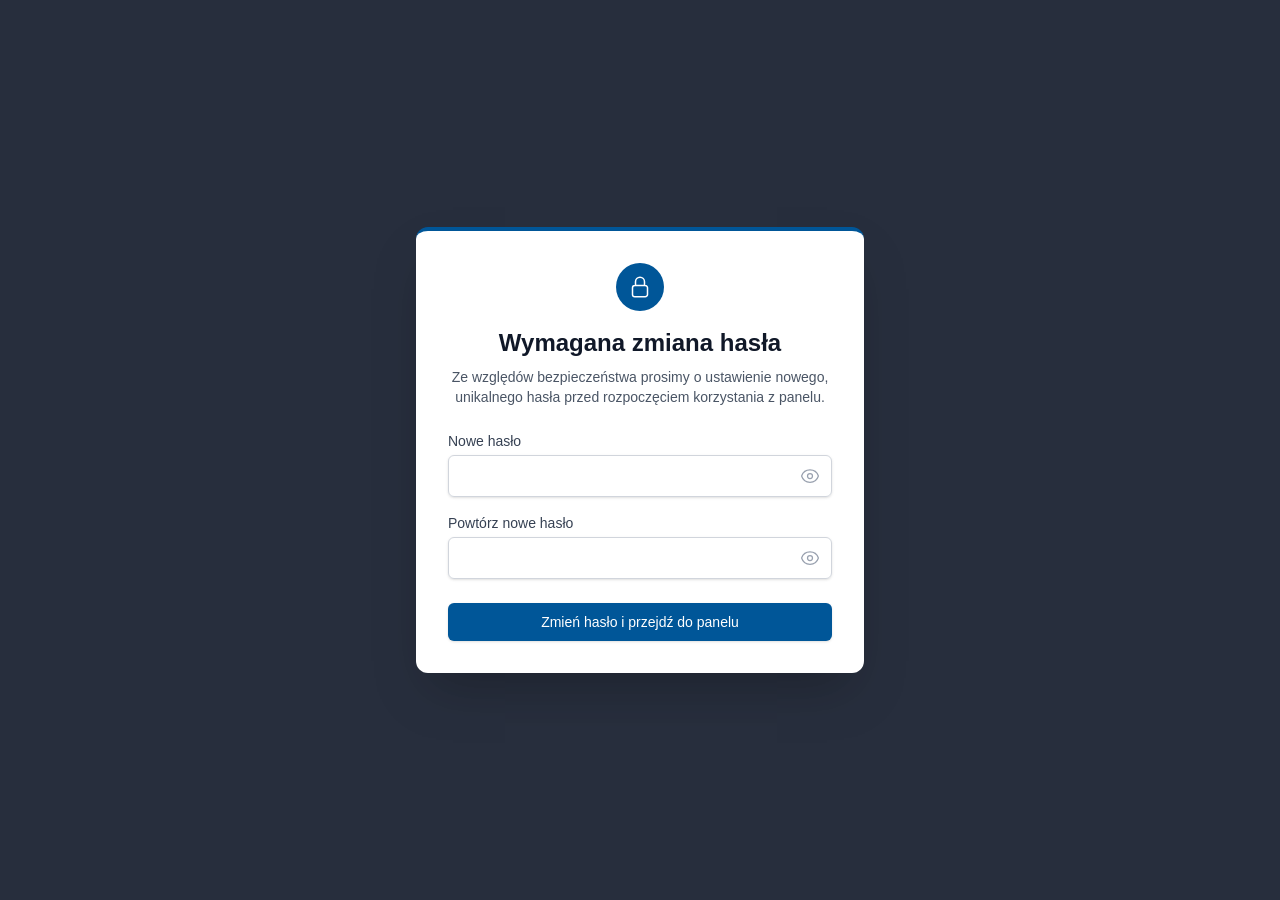
Test: ForceChangePasswordModal › wyświetla błąd gdy hasła się nie zgadzają
Type "NoweHaslo1!" into the 1st password field at (640, 476), box [448, 455, 832, 497]
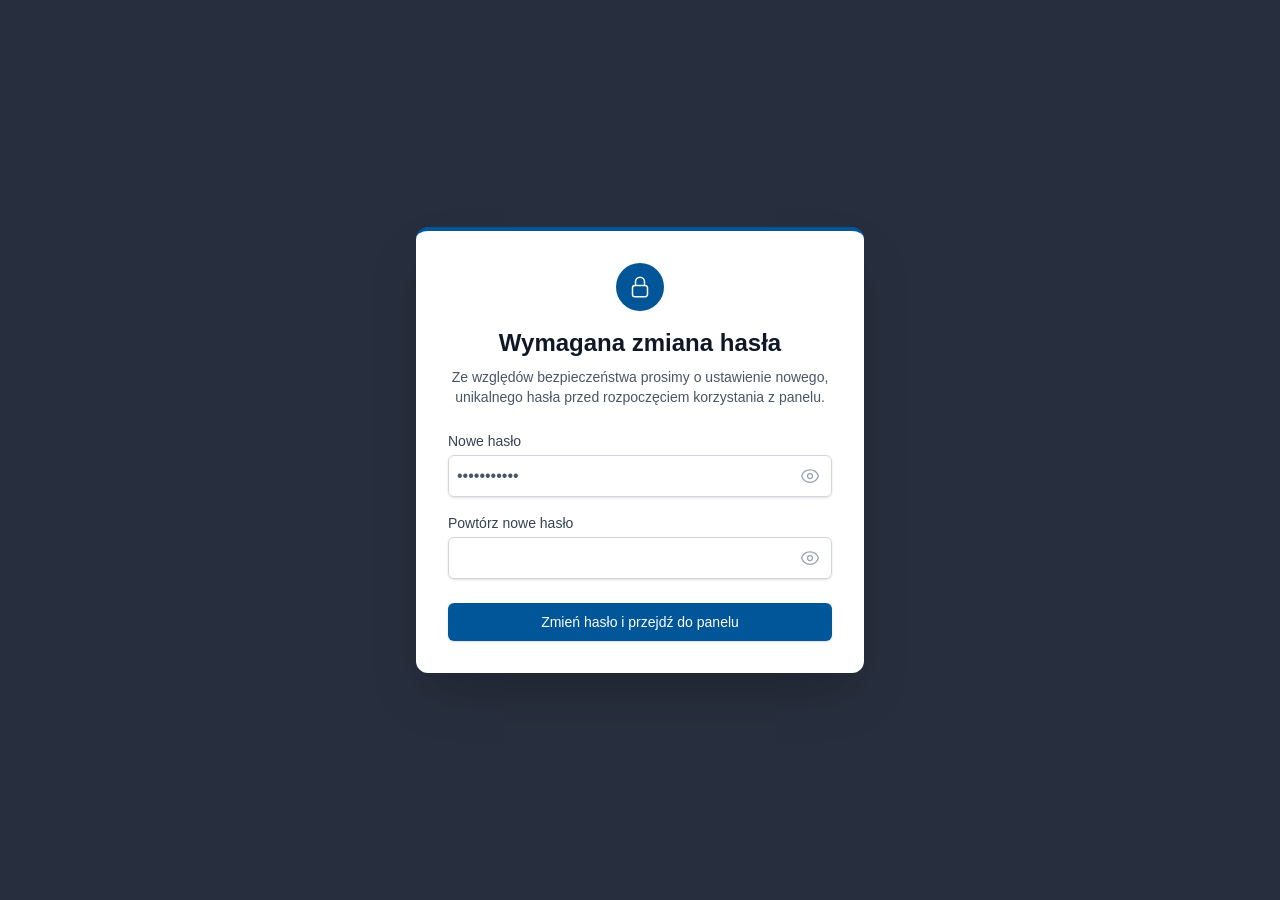
Type "InneHaslo2!" into the password field below "Powtórz nowe hasło" at (640, 558), box [448, 537, 832, 579]
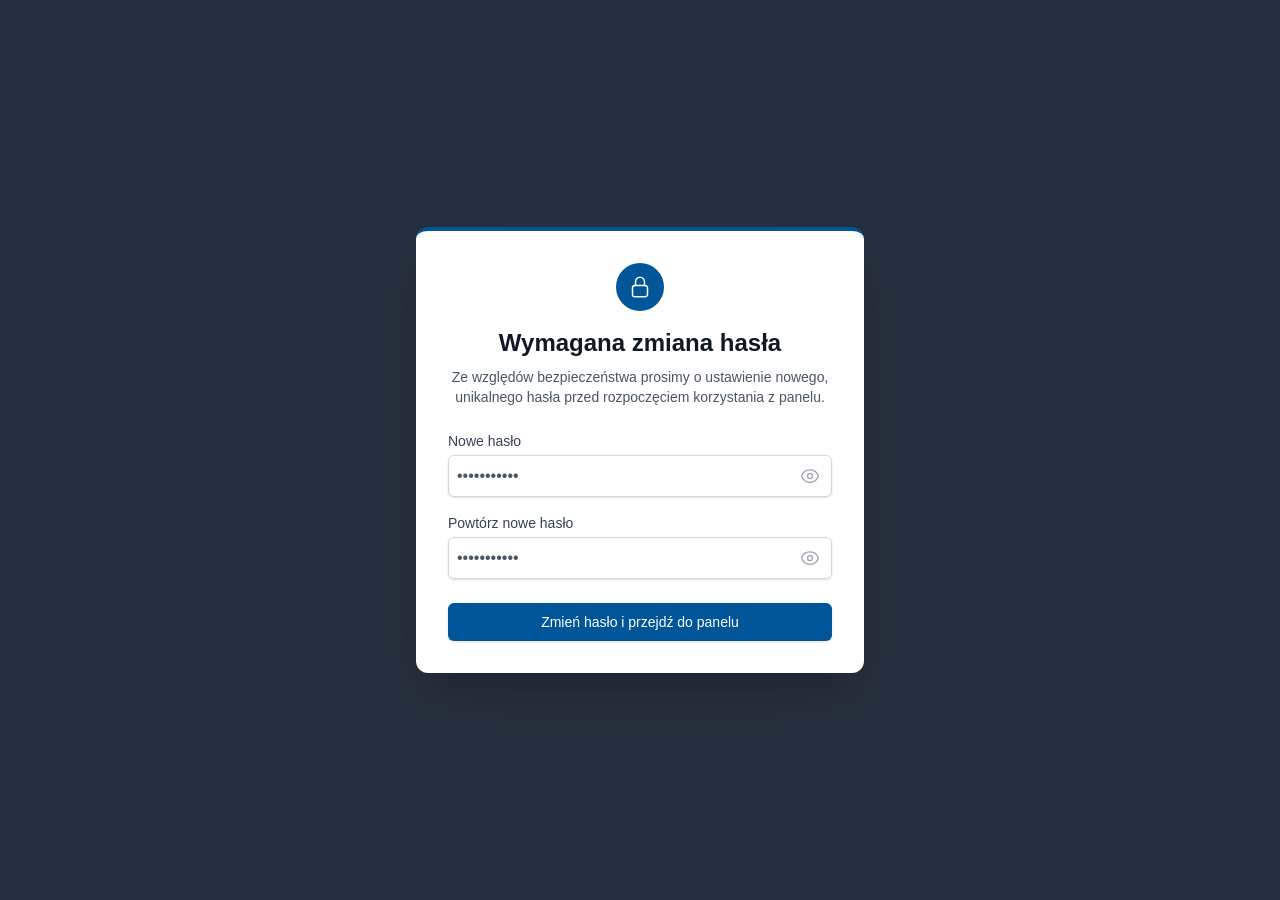
Click the button "Zmień hasło i przejdź do panelu" at (640, 622), box [448, 603, 832, 641]
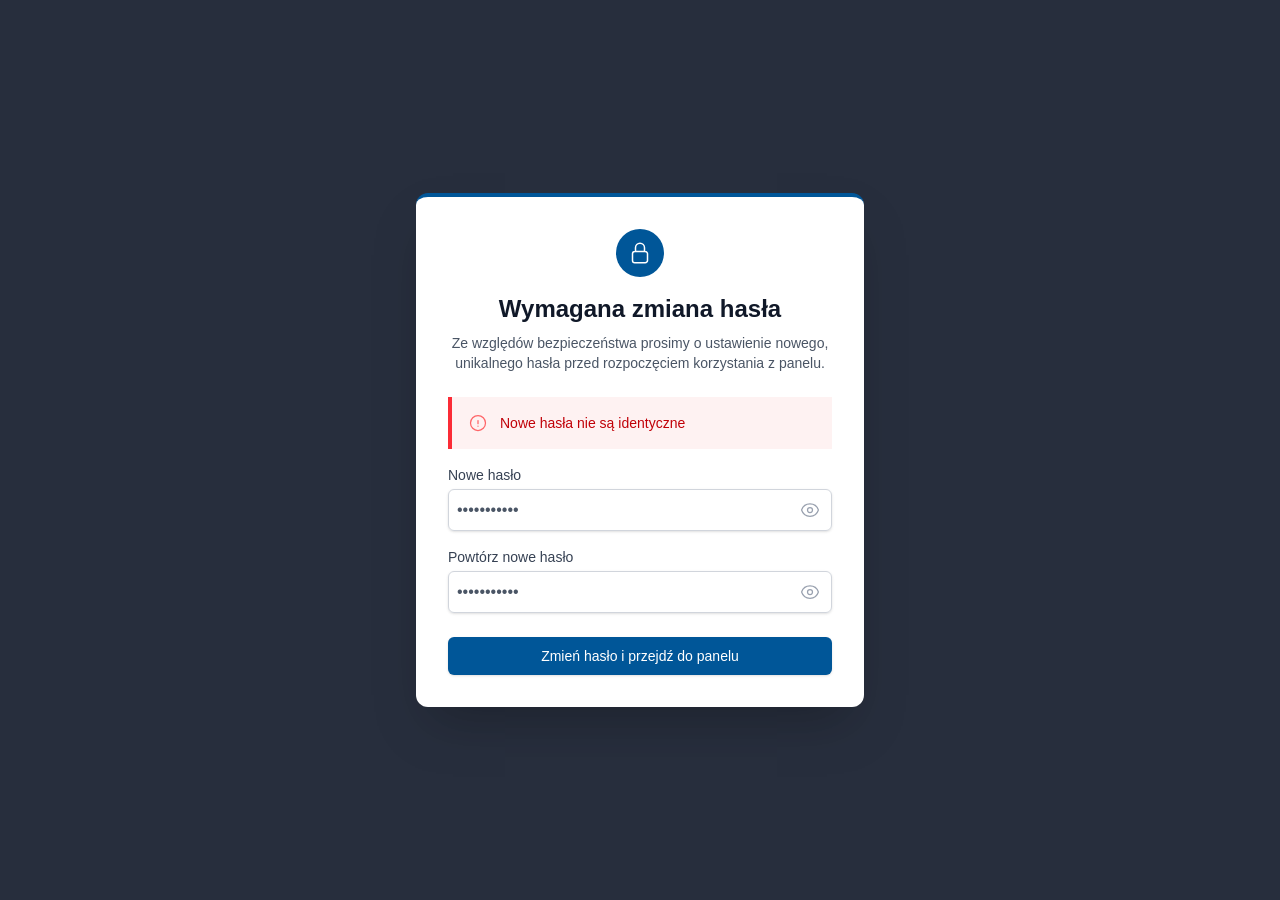
Result: the text "Nowe hasła nie są identyczne" is shown at [500, 413, 685, 433]
